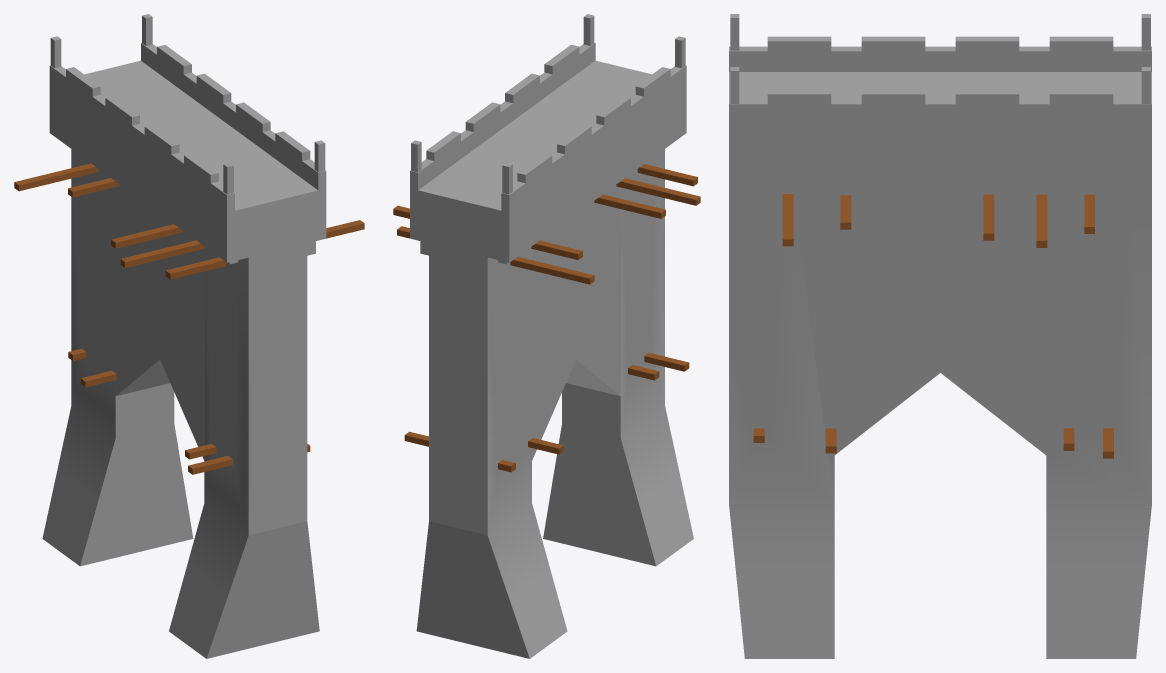
The model's file is Castle_New_Wall_Eastern_Section_04.fbx.
3 views of the same model, side by side, from view 1: azimuth 30°, elevation 25°; view 2: azimuth 150°, elevation 25°; view 3: azimuth 270°, elevation 25° (orthographic). The views are drawn at different scales.
Parts seen in each view (by area): view 1: Model; view 2: Model; view 3: Model.
Part boxes in pixels (box(x1,y1,x2,y2)): Model: box(14, 14, 364, 658); Model: box(393, 14, 700, 658); Model: box(729, 14, 1151, 658).
Size of the model in its own units: 919 by 1984 by 1295.
